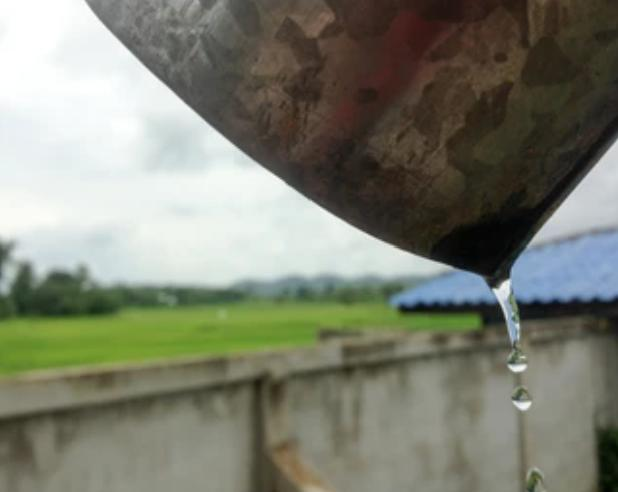water drop: (485, 264, 529, 372), (513, 387, 533, 412), (525, 469, 545, 492)
